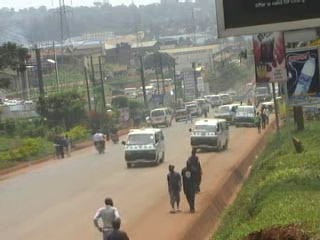Car: (173, 105, 194, 125)
Motorcycle: (92, 127, 107, 156), (109, 123, 122, 144)
